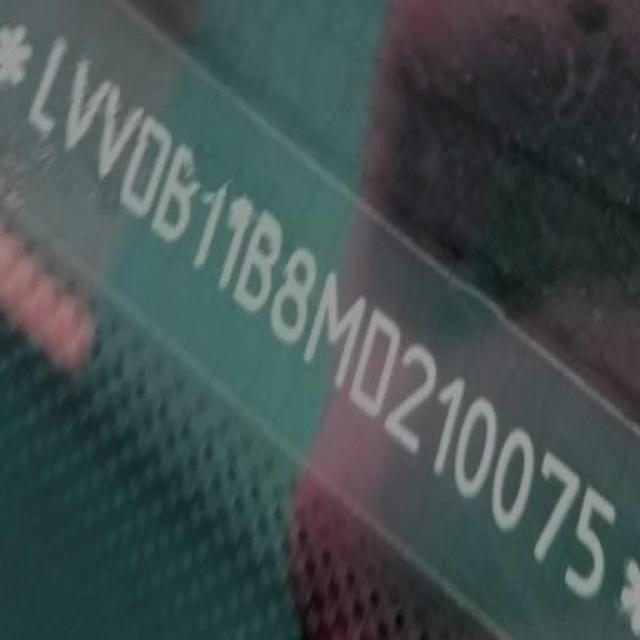0: (482, 411, 545, 548), (447, 381, 507, 515)
1: (184, 156, 236, 282), (207, 181, 260, 304), (421, 362, 471, 483)
2: (380, 326, 443, 461)
5: (557, 476, 623, 611)
7: (518, 443, 585, 581)
8: (263, 227, 323, 358)
B: (145, 134, 210, 261), (231, 194, 293, 327)
D: (115, 97, 180, 230), (345, 299, 406, 425)
L: (19, 24, 78, 147)
M: (297, 259, 371, 397)
V: (50, 43, 116, 175), (84, 75, 145, 200)
